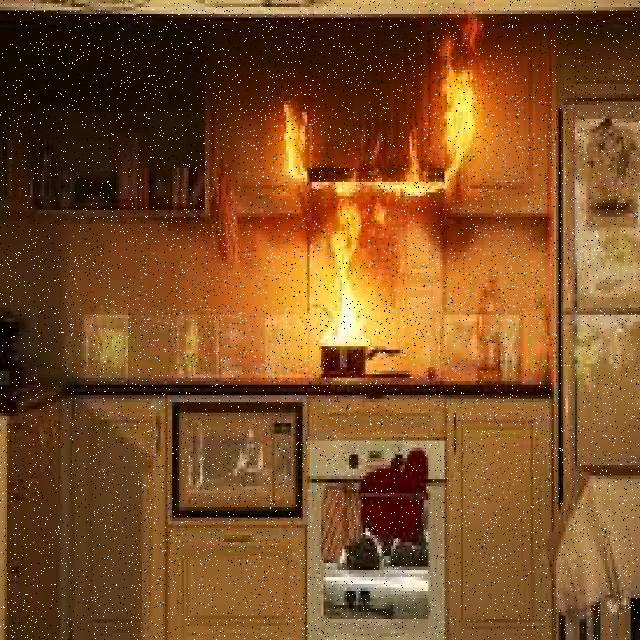fire: (275, 29, 492, 201), (324, 202, 374, 356)
